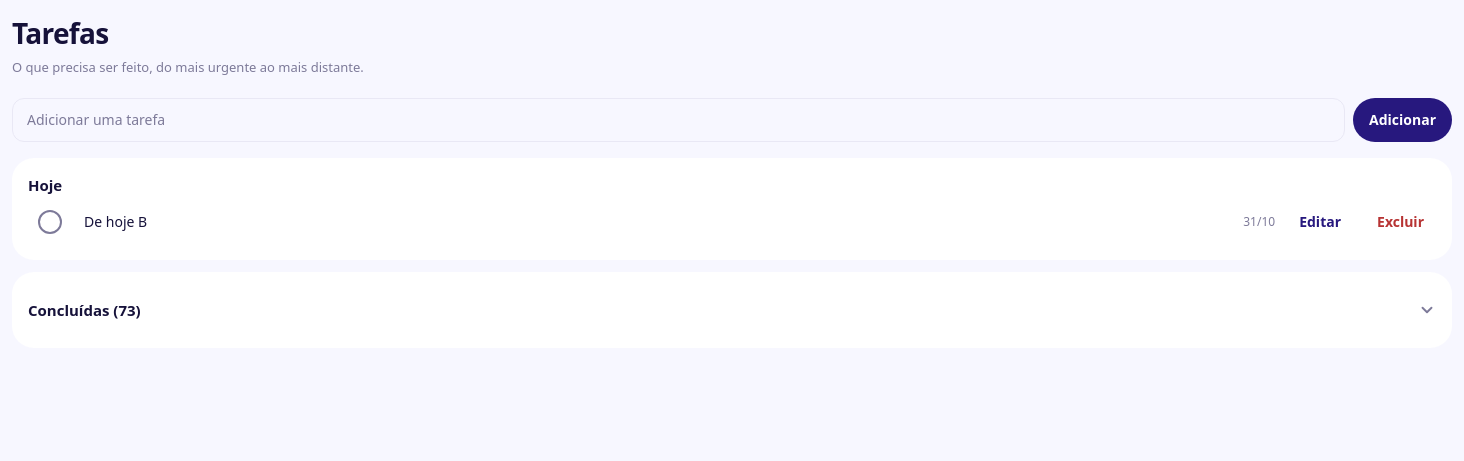
Test: TarefasPage › concluidasComecaRecolhidaComContagemTotal
The image size is (1464, 461).
Check: the text "Feita X" is not shown
Click the button "Concluídas (73)" at x=84, y=310, box [28, 288, 1436, 332]
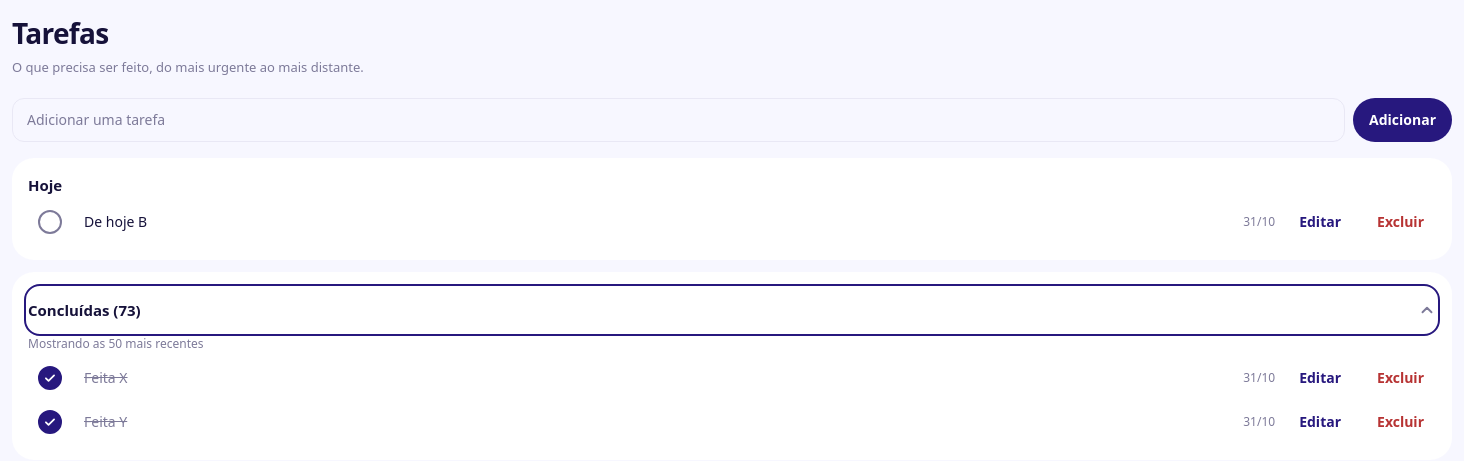
Check: the button "Concluídas (73)" is expanded, box [28, 288, 1436, 332]
Check: the text "Feita X" is shown, box [84, 368, 128, 387]
Check: the text "Feita Y" is shown, box [84, 412, 127, 431]
